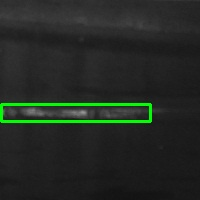scratches: (1, 104, 150, 121)
